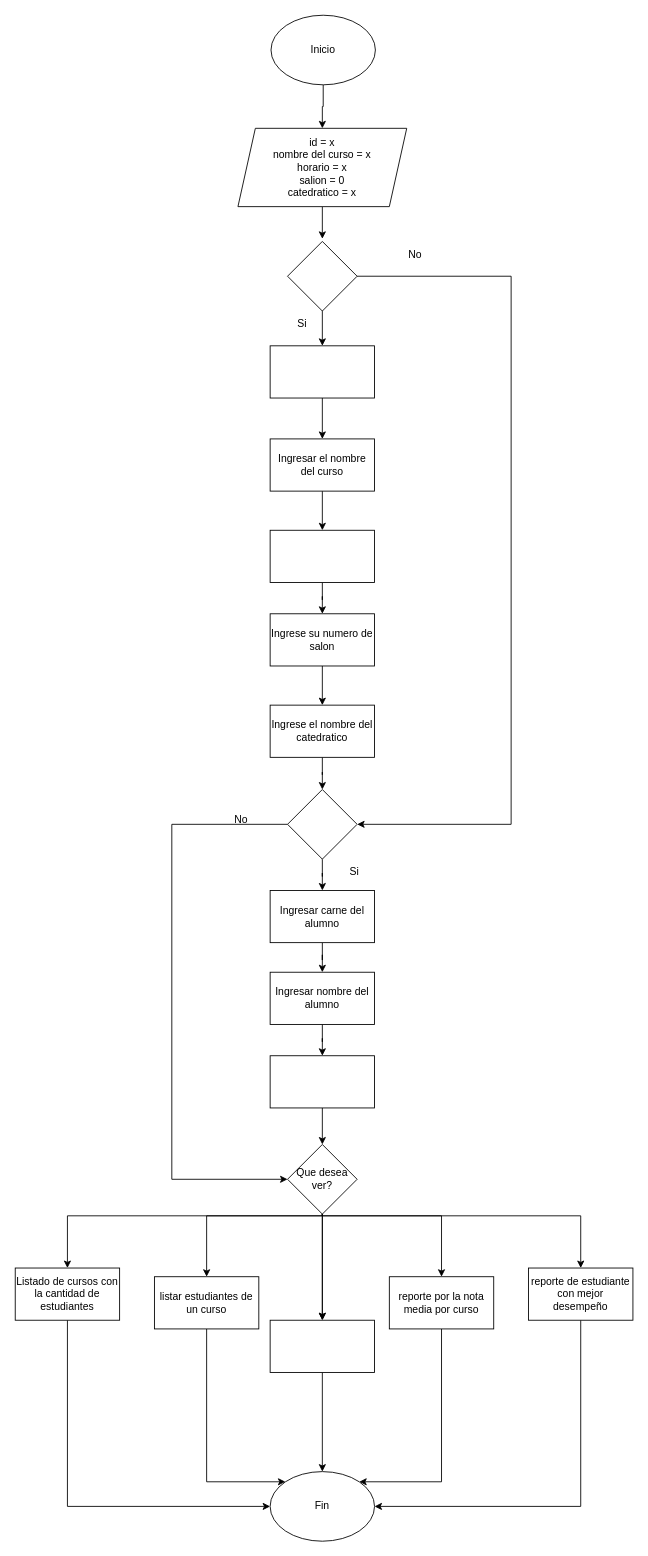
The diagram is 648 pixels wide and 1556 high, and some of its shapes have lost their labels. The box of each missing label's shape, as (x1, y1, x2, y2) in pixels:
Desea agregar alumnos?: (287, 789, 357, 859)
Desea crear un curso?: (287, 241, 357, 311)
Ingresar el horario del curso: (269, 529, 375, 582)
Ingrese el numero de ID: (269, 345, 375, 398)
Ingrese la fecha de nacimiento del alumno: (269, 1055, 375, 1108)
listar un estudiante con sus notas: (269, 1319, 375, 1372)
